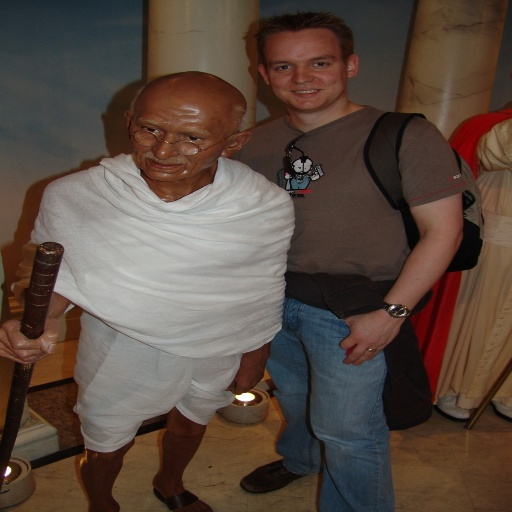hand: (330, 299, 399, 376), (0, 313, 59, 366), (226, 361, 268, 396)
